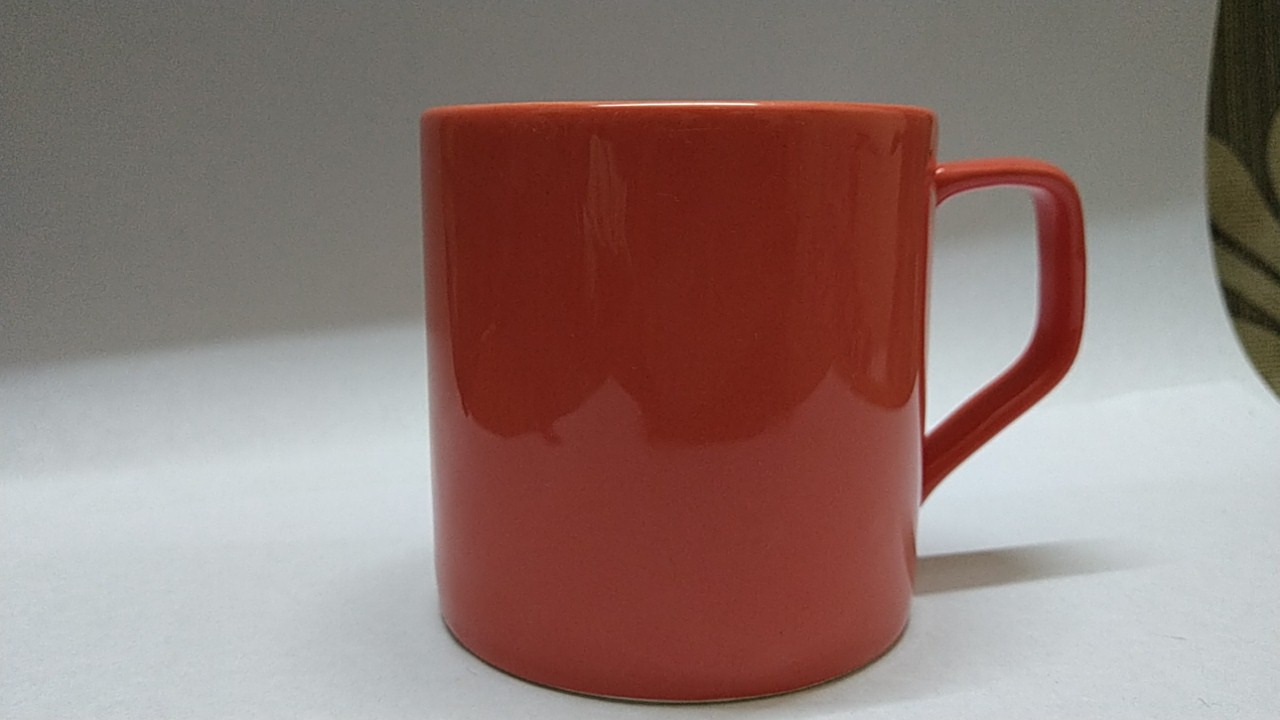cup: (401, 92, 1108, 714)
